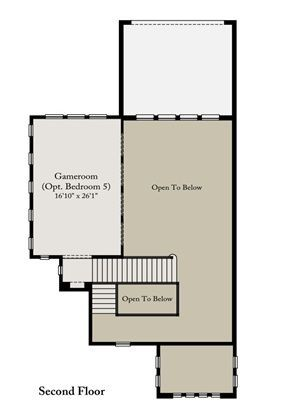room: (121, 115, 233, 252), (34, 117, 125, 258), (94, 258, 231, 347), (121, 18, 236, 122), (157, 341, 235, 394)
wall: (224, 19, 240, 356), (114, 18, 133, 131), (129, 338, 242, 354), (86, 278, 100, 348), (56, 275, 92, 293), (85, 337, 115, 350)
window: (135, 110, 221, 130), (172, 388, 222, 402), (25, 235, 39, 251), (24, 206, 37, 222), (150, 353, 164, 367), (231, 355, 243, 371), (25, 179, 38, 193), (27, 152, 39, 167), (26, 122, 37, 138), (54, 265, 68, 277), (116, 339, 130, 351), (152, 374, 164, 388), (230, 375, 242, 388), (38, 252, 51, 262)
